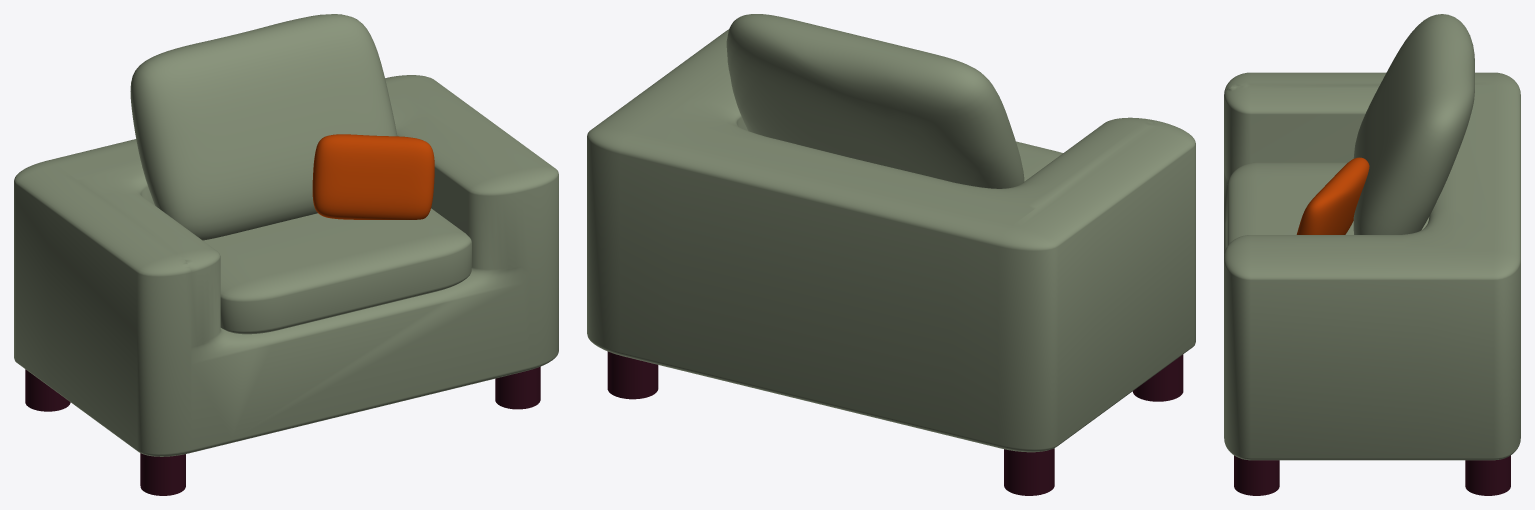
The model's file is ソファ.glb.
The picture shows the model from 3 angles, left to right: view 1: azimuth 30°, elevation 25°; view 2: azimuth 150°, elevation 25°; view 3: azimuth 270°, elevation 25°; orthographic projection. The views are drawn at different scales.
Parts seen in each view (by area): view 1: 立方体, 立方体.002, 立方体.001, クッション, 足; view 2: 立方体, 立方体.002, 足, 立方体.001; view 3: 立方体, 立方体.002, 立方体.001, クッション, 足.
Part boxes in pixels (box(x1,y1,x2,y2)): 立方体: box(14, 75, 558, 456); 立方体.002: box(130, 14, 397, 240); 立方体.001: box(203, 208, 471, 334); クッション: box(312, 134, 434, 219); 足: box(25, 366, 540, 495); 立方体: box(587, 29, 1195, 452); 立方体.002: box(726, 14, 1024, 188); 足: box(607, 351, 1183, 495); 立方体.001: box(1016, 141, 1062, 181); 立方体: box(1224, 72, 1520, 460); 立方体.002: box(1353, 14, 1474, 234); 立方体.001: box(1227, 162, 1429, 245); クッション: box(1296, 157, 1369, 234); 足: box(1234, 455, 1510, 495).
Size of the model in its own units: 3.28 by 2.54 by 2.
